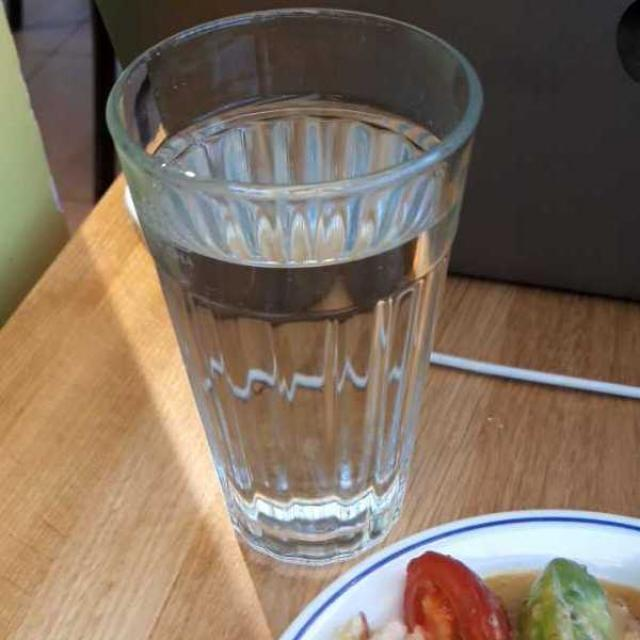water: (136, 95, 462, 530)
